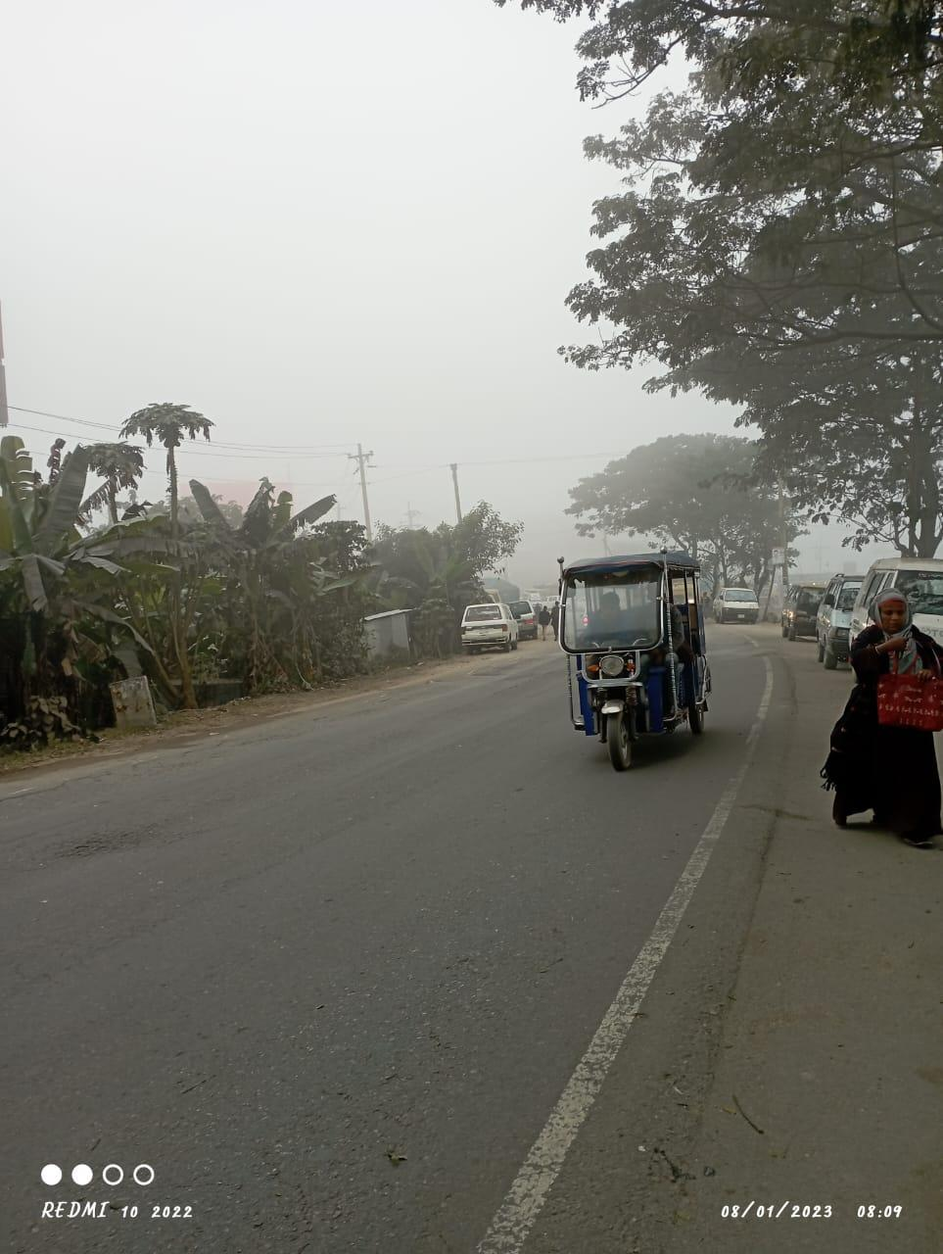Car: (539, 545, 713, 769), (451, 597, 523, 661), (770, 575, 826, 653), (711, 577, 770, 630)
